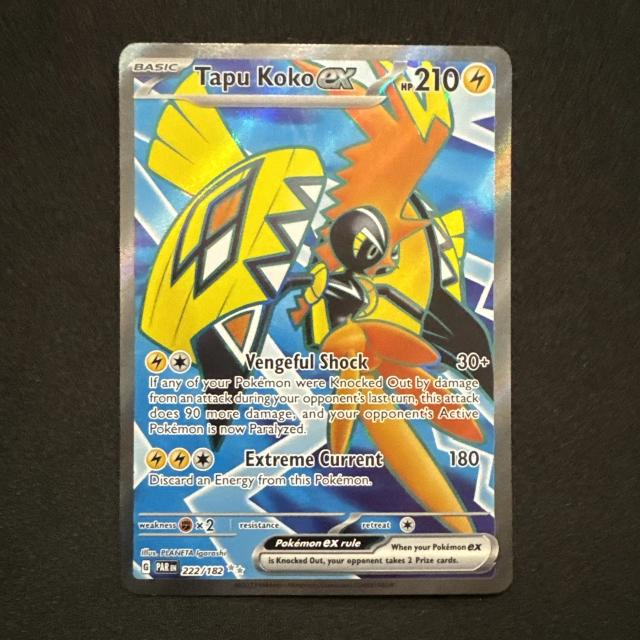Card: (112, 38, 522, 604)
Name: (189, 57, 361, 96)
